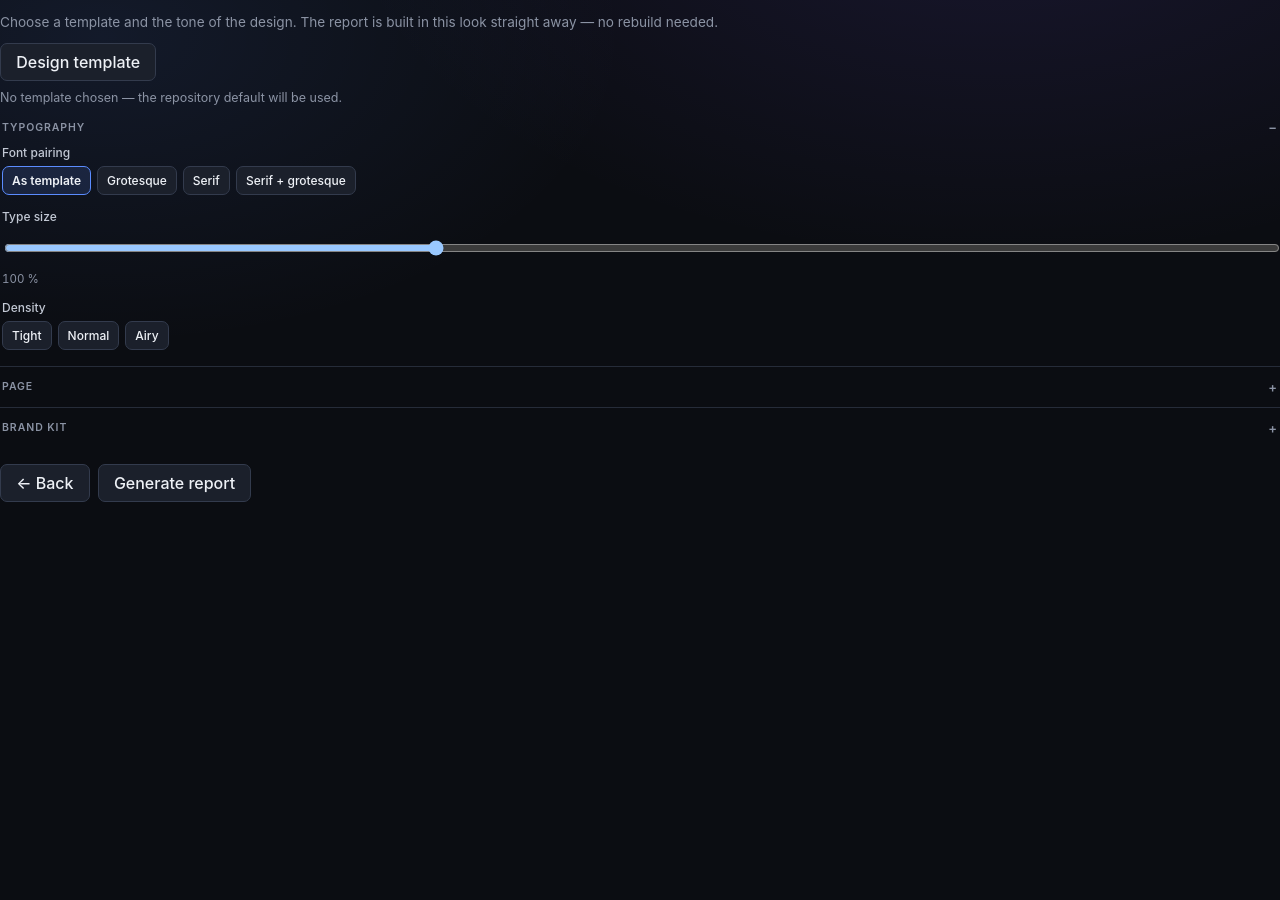
Test: PlanDesignStep › says which template is chosen, and says so when none is
Expected: the text "No template chosen — the repository default will be used." is shown, [0,90,342,105]
Click the button "Design template".
click(78, 62)  # box [0,43,156,81]
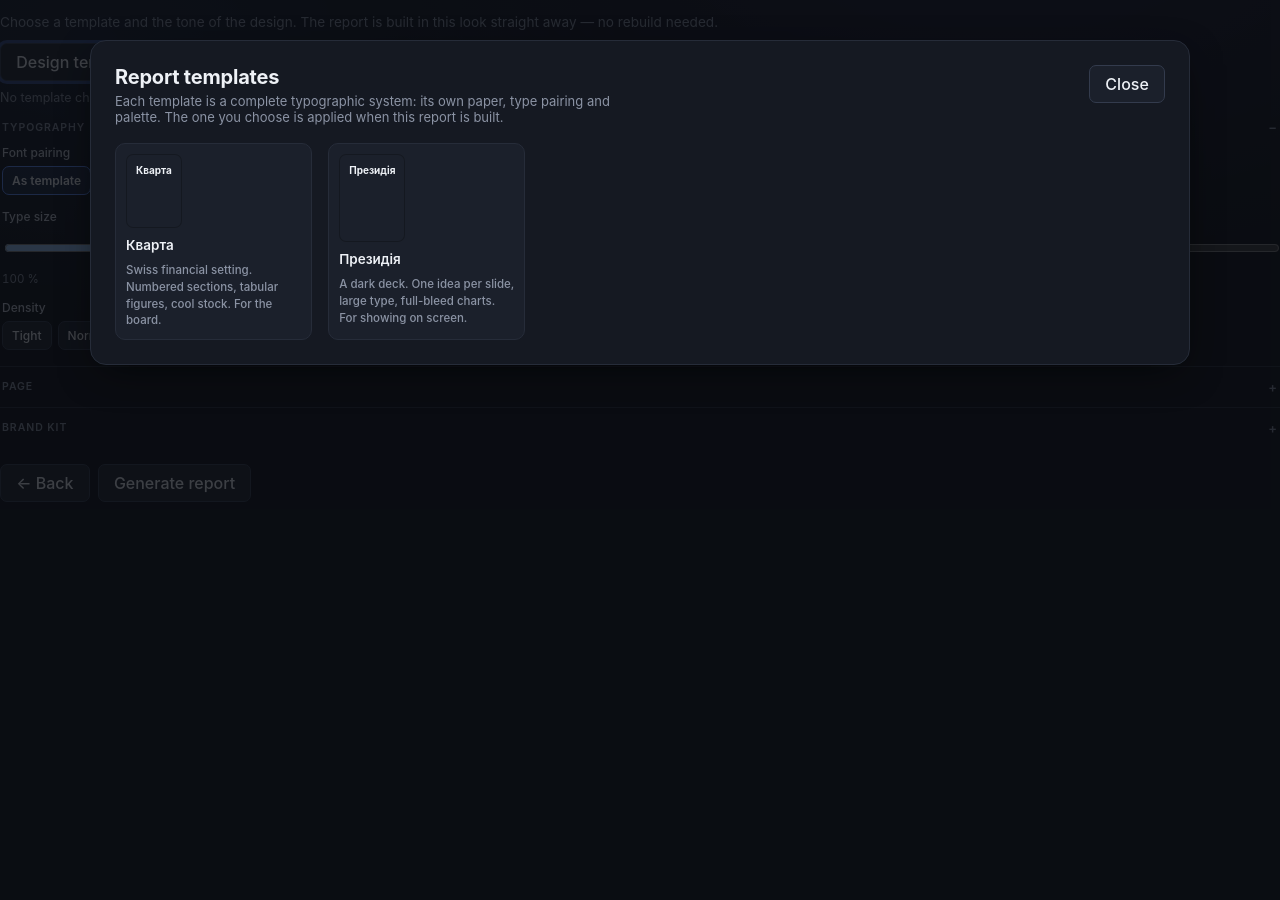
Click the button "Кварта".
click(214, 242)  # box [115,143,312,340]
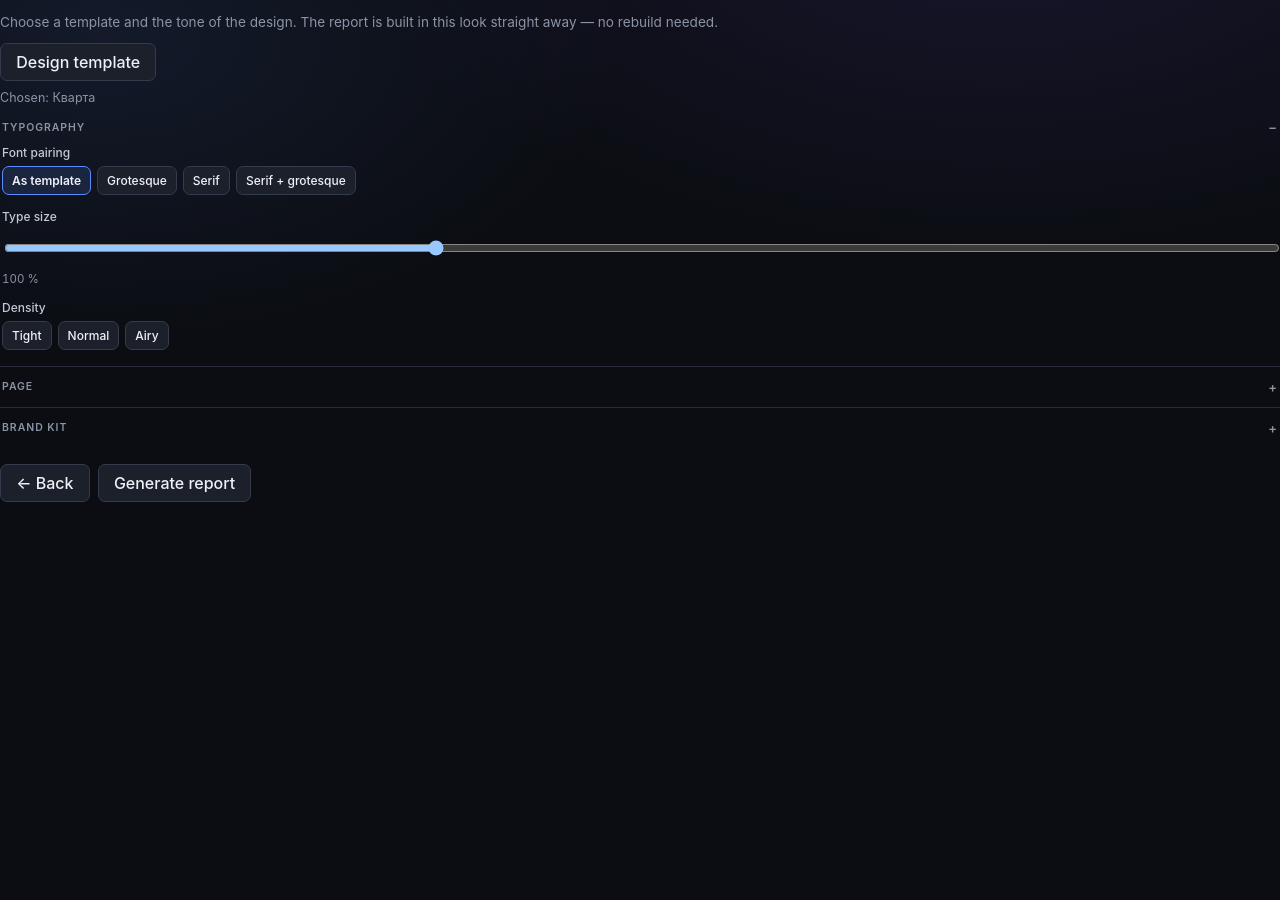
Expected: the text "Chosen: Кварта" is shown, [0,90,95,105]
